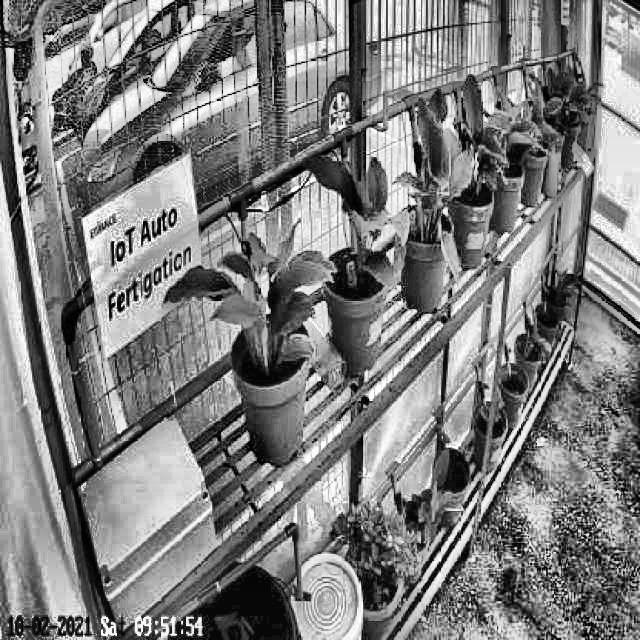plants: (165, 221, 338, 365), (308, 150, 412, 286), (400, 89, 462, 282), (443, 84, 509, 202)
